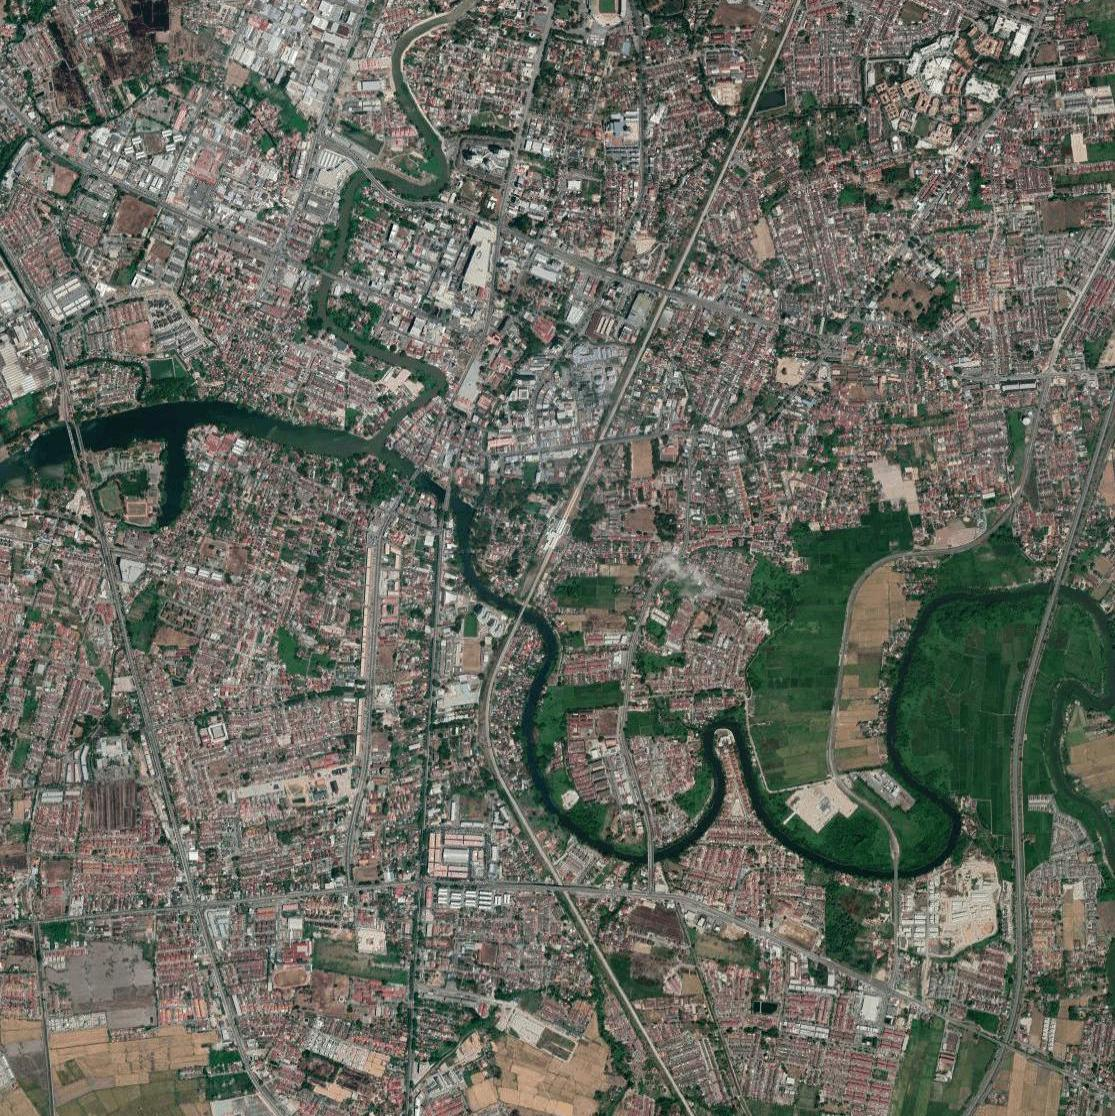industrial: (225, 1, 361, 86)
motorway: (1056, 395, 1115, 581), (965, 1044, 1009, 1116), (1027, 581, 1058, 684), (1004, 921, 1027, 1044), (1006, 797, 1029, 919), (1005, 684, 1029, 799)
train_station: (545, 517, 571, 557)
